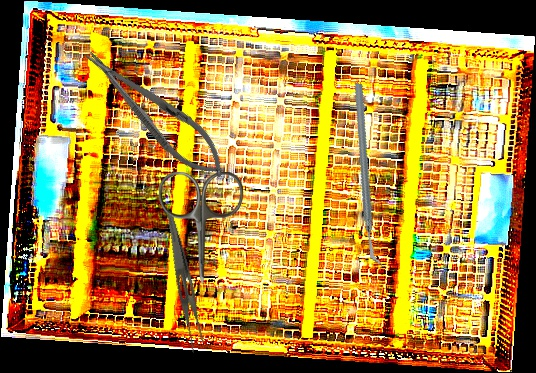Chopper: (300, 81, 437, 267)
Dressing Forceps: (152, 212, 212, 354)
Iris Scissors: (159, 172, 243, 284)
Needle Holder: (73, 36, 239, 191)
